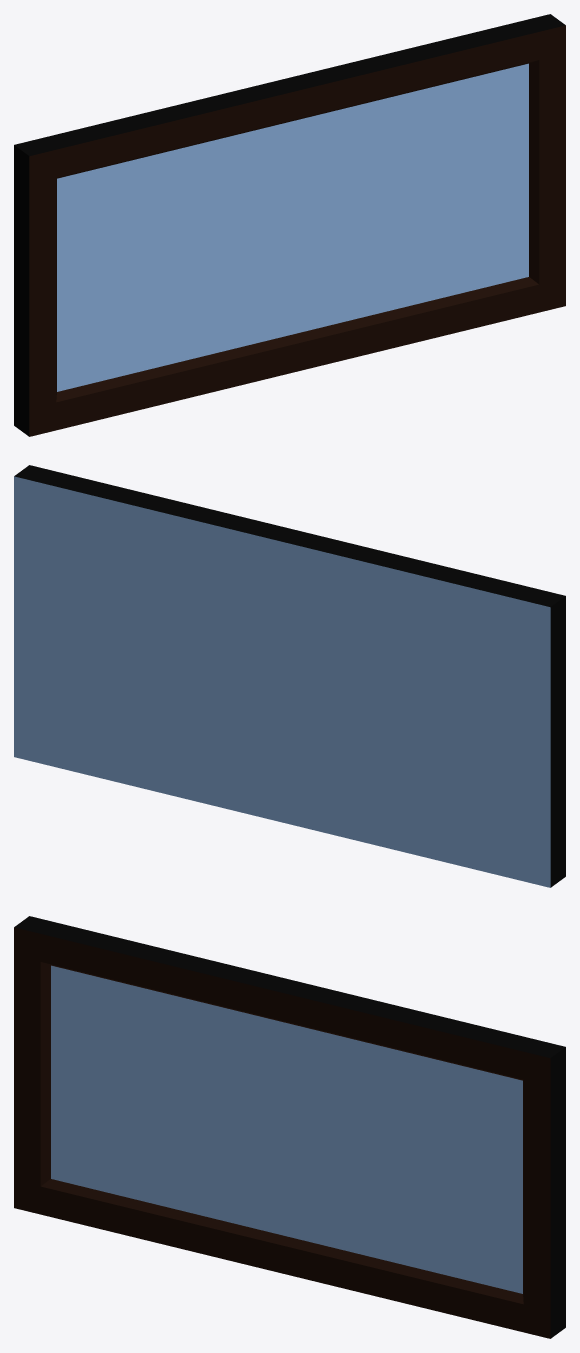
Rendered from Painting 001.FBX.
3 renders of one model, top to bottom at view 1: azimuth 30°, elevation 25°; view 2: azimuth 150°, elevation 25°; view 3: azimuth 330°, elevation 25°, orthographic.
Parts seen in each view (by area): view 1: Painting 001; view 2: Painting 001; view 3: Painting 001.
Boxes of the visible parts, x1,y1,x2,y2 form: Painting 001: (14, 14, 565, 436); Painting 001: (14, 465, 565, 887); Painting 001: (14, 916, 565, 1338).
Size of the model in its own units: 2 by 1 by 0.1.
